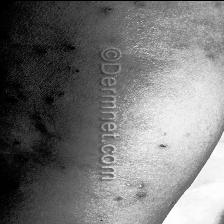Non-Cancerous Skin Condition: (0, 44, 77, 208), (84, 0, 157, 24)
